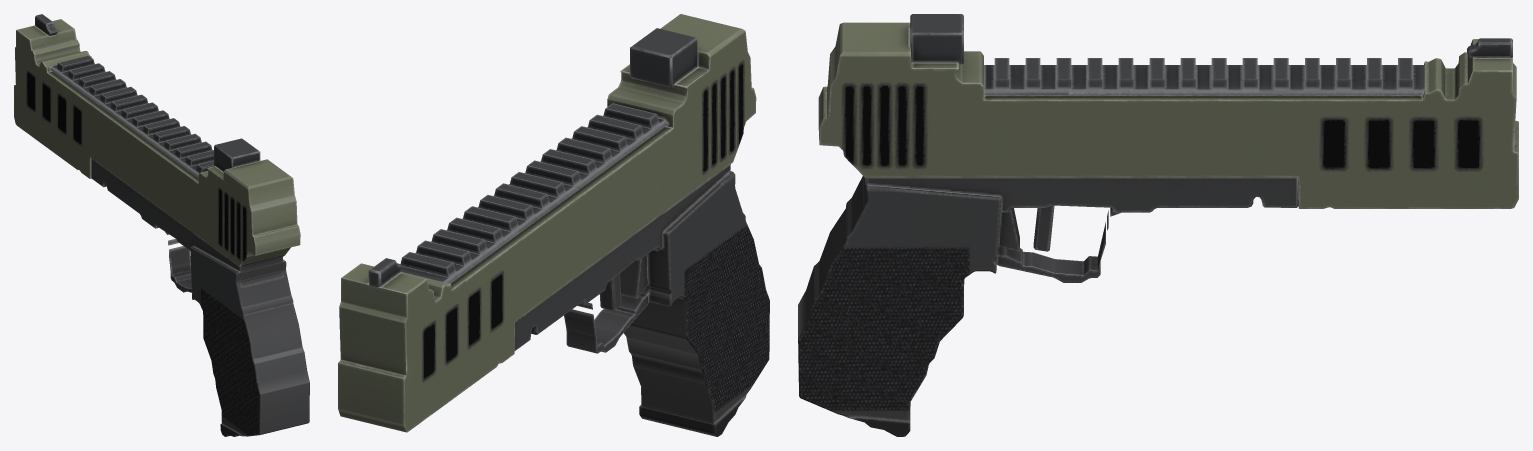
3 renders of one model, left to right at view 1: azimuth 30°, elevation 25°; view 2: azimuth 150°, elevation 25°; view 3: azimuth 270°, elevation 25°, orthographic. The views are drawn at different scales.
Visible parts, largest first — view 1: AT_MD34_export; view 2: AT_MD34_export; view 3: AT_MD34_export.
Boxes of the visible parts, x1,y1,x2,y2 form: AT_MD34_export: (14,14,309,436); AT_MD34_export: (338,14,769,436); AT_MD34_export: (798,14,1518,436).
Bounding box in the file's own units: 0.0255 × 0.2088 × 0.1264.
